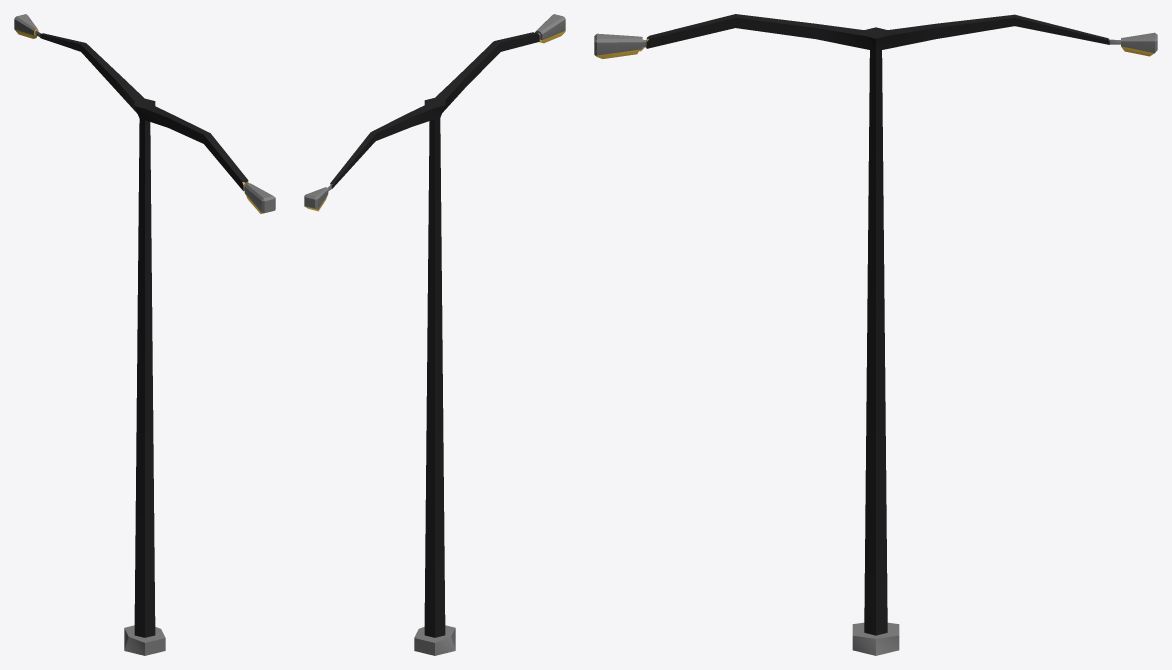
Rendered from Double Street Light 001.FBX.
The picture shows the model from 3 angles, left to right: view 1: azimuth 30°, elevation 25°; view 2: azimuth 150°, elevation 25°; view 3: azimuth 270°, elevation 25°; orthographic projection. The views are drawn at different scales.
Visible parts, largest first — view 1: Double Street Light; view 2: Double Street Light; view 3: Double Street Light.
Boxes of the visible parts, x1,y1,x2,y2 form: Double Street Light: (14, 14, 275, 655); Double Street Light: (304, 14, 565, 655); Double Street Light: (594, 14, 1157, 655).
Bounding box in the file's own units: 0.2 × 2.57 × 2.09.
